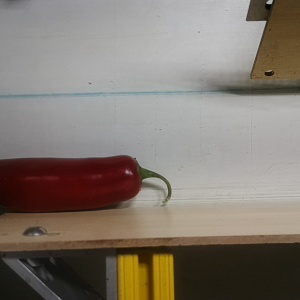Cut Point: (122, 154, 150, 199)
